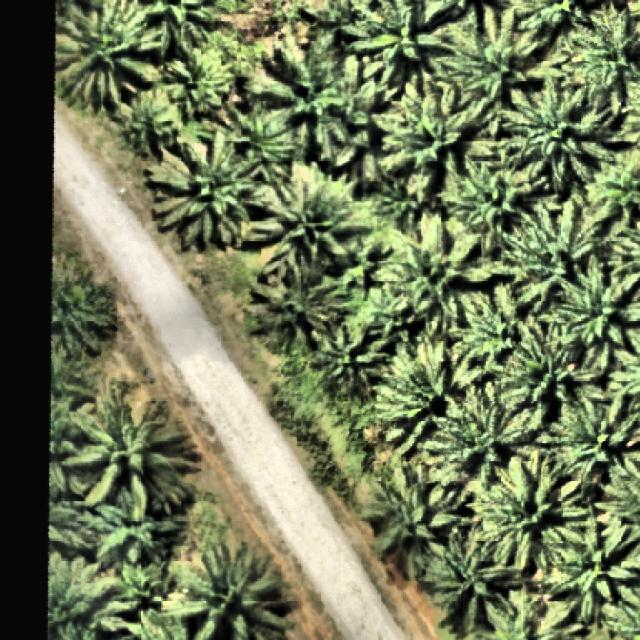Kelapa_Sawit: (61, 382, 201, 522), (438, 4, 570, 138), (371, 65, 498, 202), (244, 158, 372, 284), (241, 18, 350, 164), (496, 70, 618, 198), (354, 454, 476, 582), (462, 454, 590, 574), (380, 211, 503, 334), (484, 318, 612, 429), (486, 198, 606, 314), (371, 336, 484, 456), (144, 130, 256, 250), (436, 151, 562, 257), (50, 0, 166, 114), (420, 383, 538, 489), (538, 505, 640, 627), (535, 386, 640, 500), (419, 524, 524, 632), (324, 56, 407, 192), (198, 94, 297, 202), (444, 279, 533, 390), (245, 262, 346, 350), (94, 474, 184, 564), (307, 312, 395, 397), (158, 46, 236, 123), (325, 232, 403, 300), (112, 86, 183, 157), (100, 556, 178, 609)
